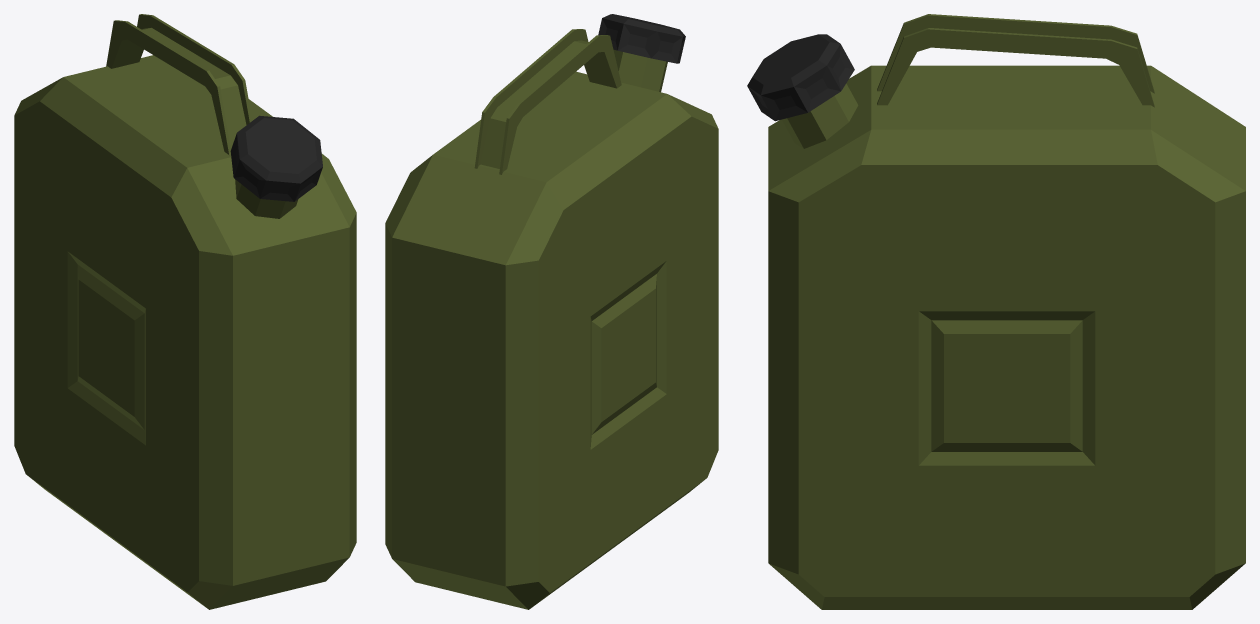
Rendered from Jerrycan_mat.fbx.
3 views of the same model, side by side, from view 1: azimuth 30°, elevation 25°; view 2: azimuth 150°, elevation 25°; view 3: azimuth 270°, elevation 25° (orthographic). The views are drawn at different scales.
Parts seen in each view (by area): view 1: Jerrycan_mat; view 2: Jerrycan_mat; view 3: Jerrycan_mat.
Part boxes in pixels (x1,y1,x2,y2): Jerrycan_mat: (14,14,356,609); Jerrycan_mat: (385,14,718,609); Jerrycan_mat: (747,14,1245,609).
Size of the model in its own units: 11.65 by 34.84 by 28.32.
